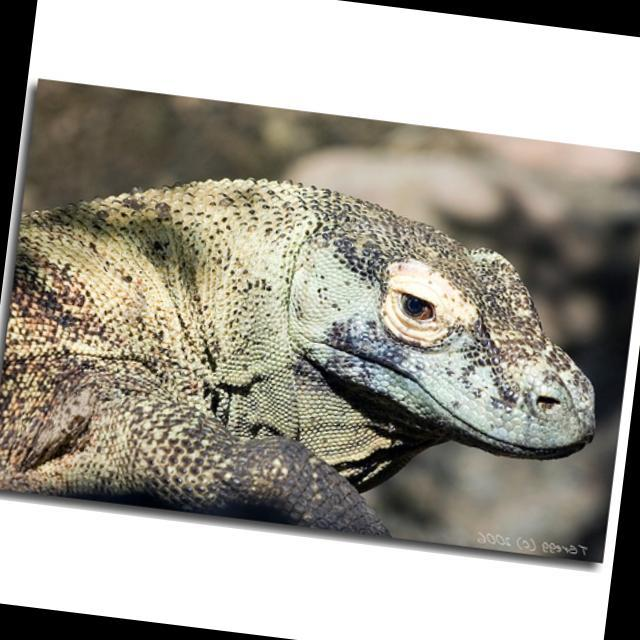KomodoDragon: (0, 146, 621, 561)
